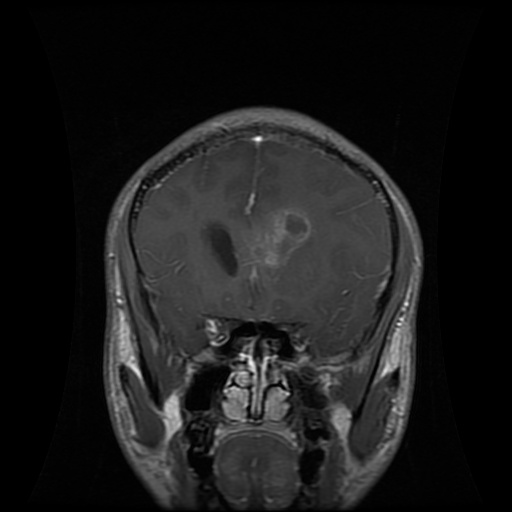glioma: (244, 205, 312, 279)
